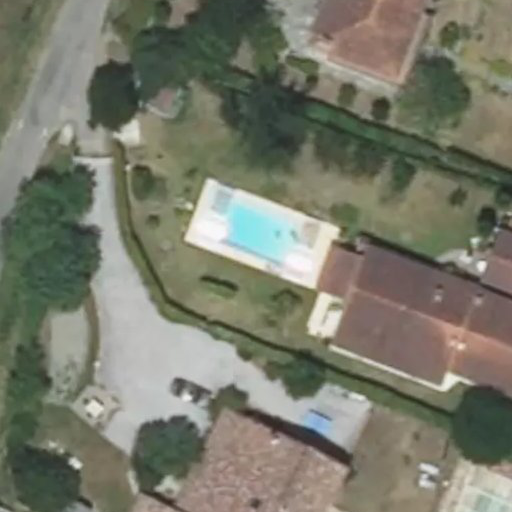pool: (216, 200, 304, 267)
